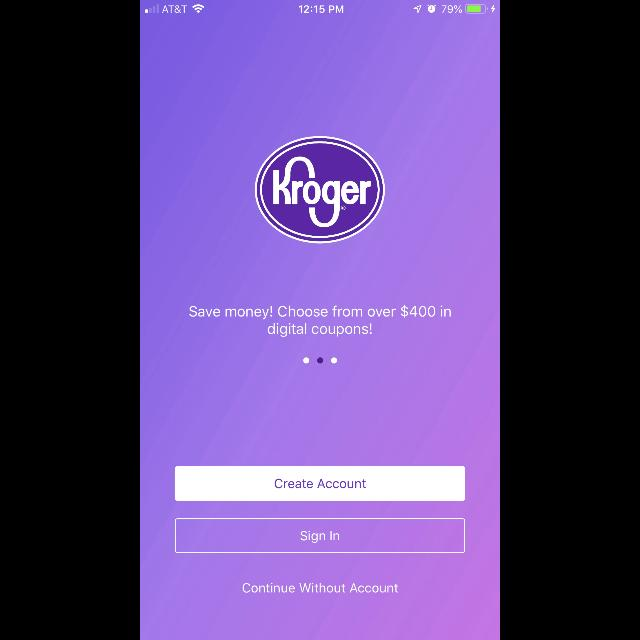image: (254, 136, 386, 244)
pageindicator: (303, 358, 337, 364)
text: (189, 305, 451, 337), (242, 583, 398, 593)
textbutton: (175, 518, 465, 554), (175, 466, 465, 500)
uppertaskbar: (140, 0, 500, 14)
